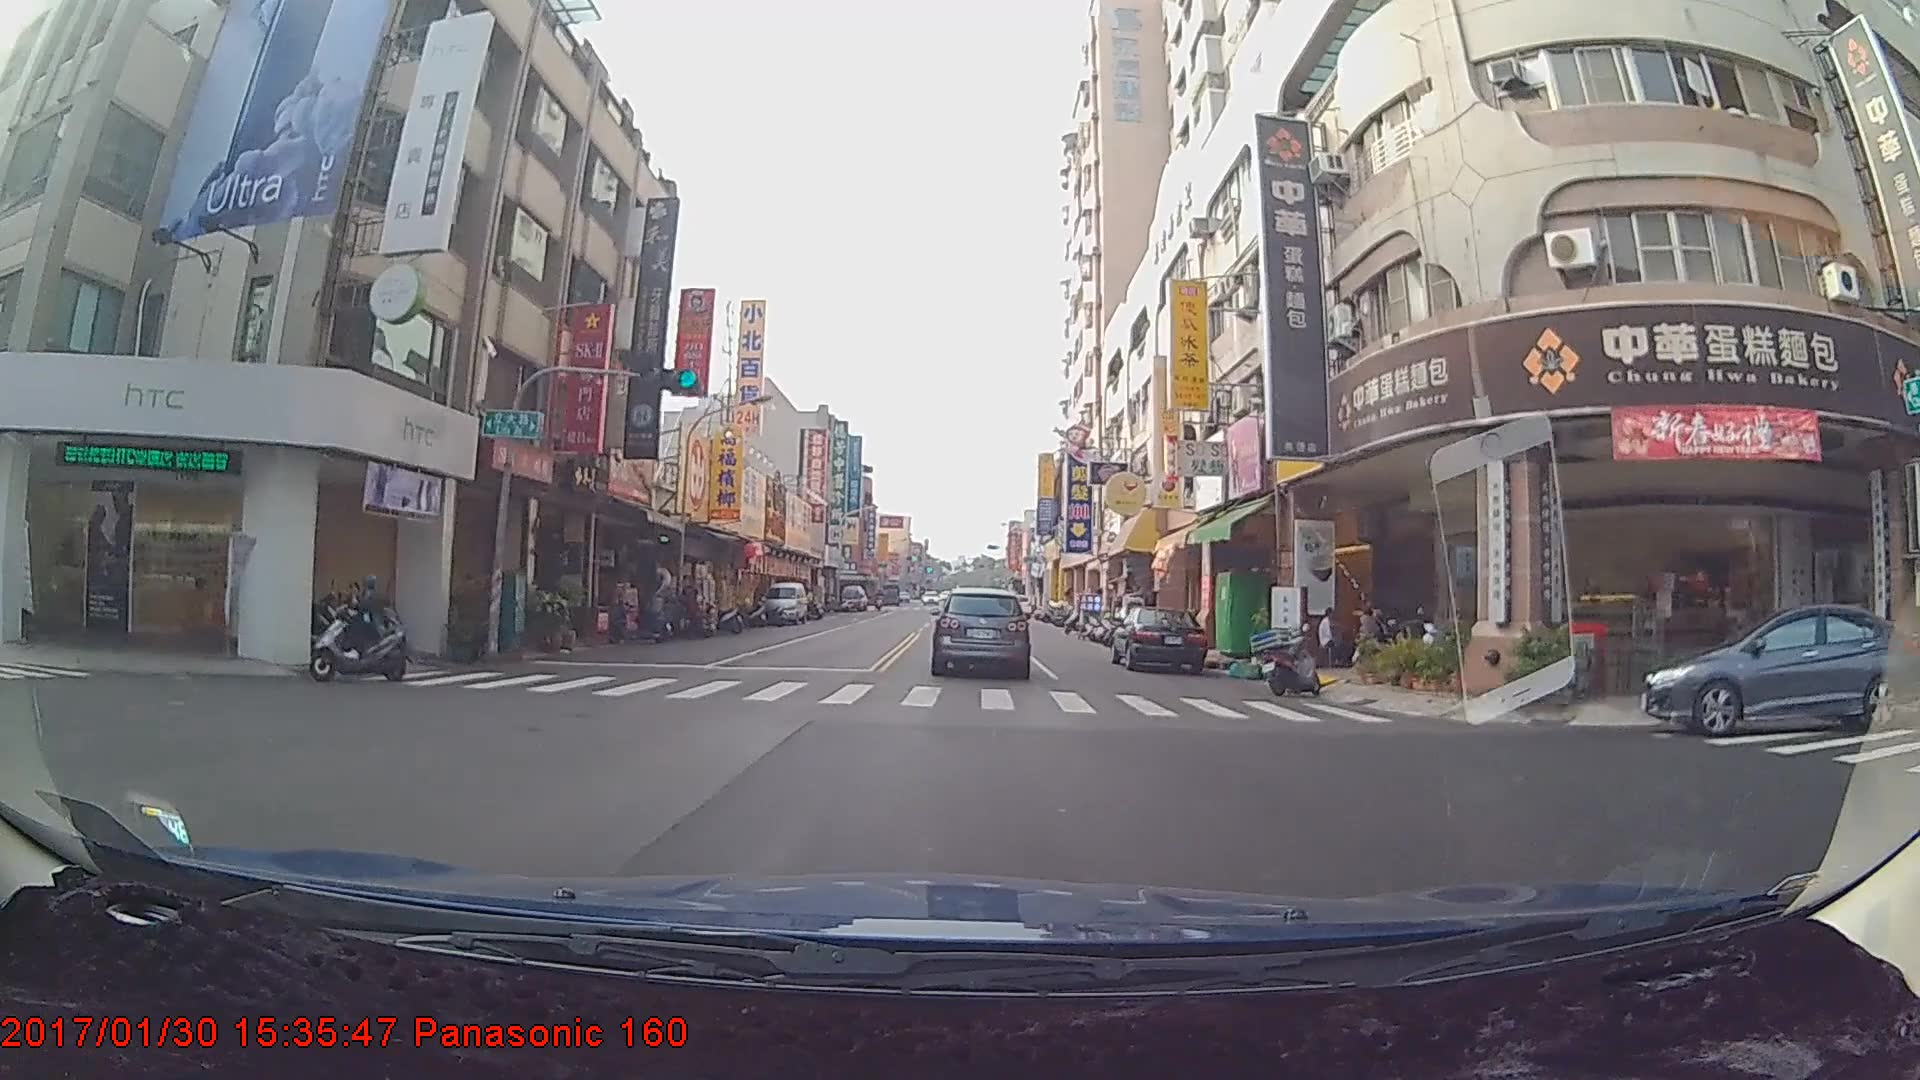pedestrian: (1348, 603, 1380, 665), (1313, 600, 1344, 663)
rider: (304, 566, 414, 681)
vehicle: (1639, 603, 1920, 735), (932, 588, 1029, 676), (1112, 604, 1207, 673), (756, 576, 807, 620), (840, 585, 868, 612)
